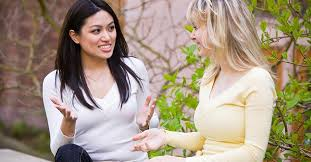person: (49, 4, 150, 118), (182, 4, 274, 117)
